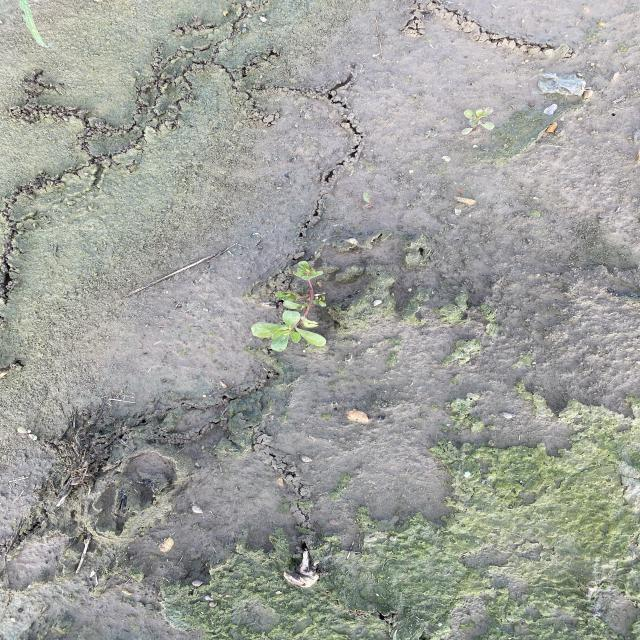Purslane: (249, 258, 331, 353)
